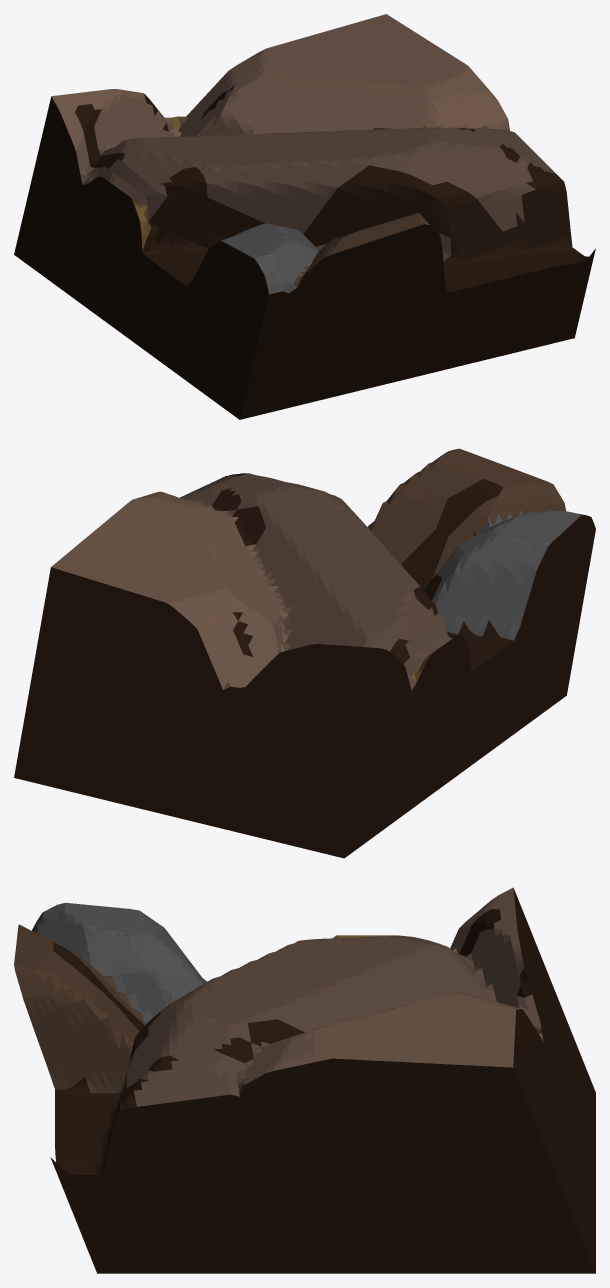
Rendered from ixm_cover_231.glb.
The picture shows the model from 3 angles, top to bottom: view 1: azimuth 30°, elevation 25°; view 2: azimuth 150°, elevation 25°; view 3: azimuth 270°, elevation 25°; orthographic projection. The views are drawn at different scales.
Parts seen in each view (by area): view 1: ixm_cover_231; view 2: ixm_cover_231; view 3: ixm_cover_231.
Part boxes in pixels (x1,y1,x2,y2): ixm_cover_231: (14,14,595,419); ixm_cover_231: (14,448,595,858); ixm_cover_231: (14,887,595,1273).
Bounding box in the file's own units: 24 × 13.32 × 32.67.
